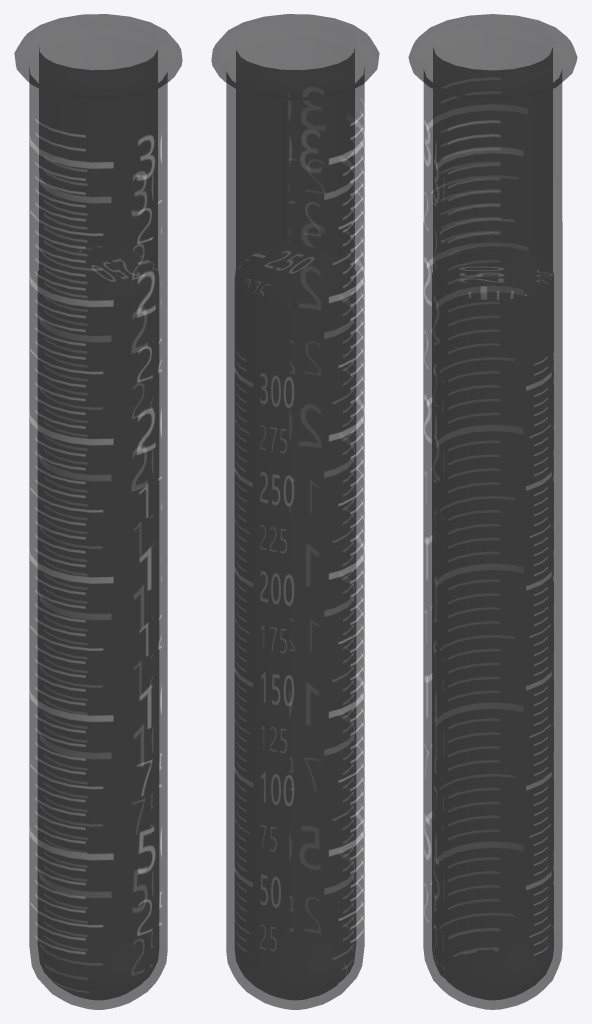
File: Flask_02.fbx
3 renders of one model, left to right at view 1: azimuth 30°, elevation 25°; view 2: azimuth 150°, elevation 25°; view 3: azimuth 270°, elevation 25°, orthographic.
Parts seen in each view (by area): view 1: Flask_02, F_Liquid_02; view 2: Flask_02, F_Liquid_02; view 3: Flask_02, F_Liquid_02.
Boxes of the visible parts, x1=… form: Flask_02: x1=14, y1=14, x2=182, y2=1009; F_Liquid_02: x1=38, y1=246, x2=158, y2=999; Flask_02: x1=211, y1=14, x2=379, y2=1009; F_Liquid_02: x1=235, y1=246, x2=355, y2=999; Flask_02: x1=408, y1=14, x2=577, y2=1009; F_Liquid_02: x1=432, y1=246, x2=553, y2=999.
Size of the model in its own units: 4.18 by 26.24 by 4.18.
